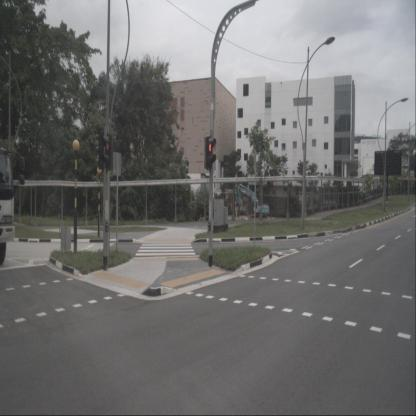vehicle-truck: (0, 147, 16, 266)
